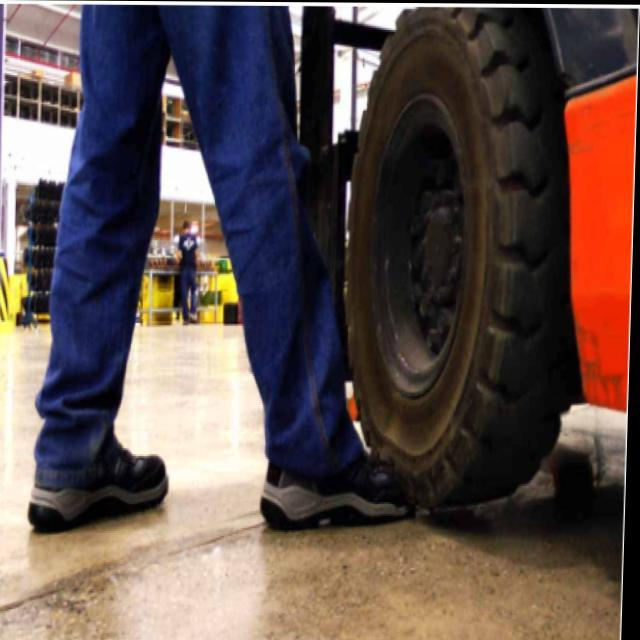shoes: (25, 407, 429, 538)
